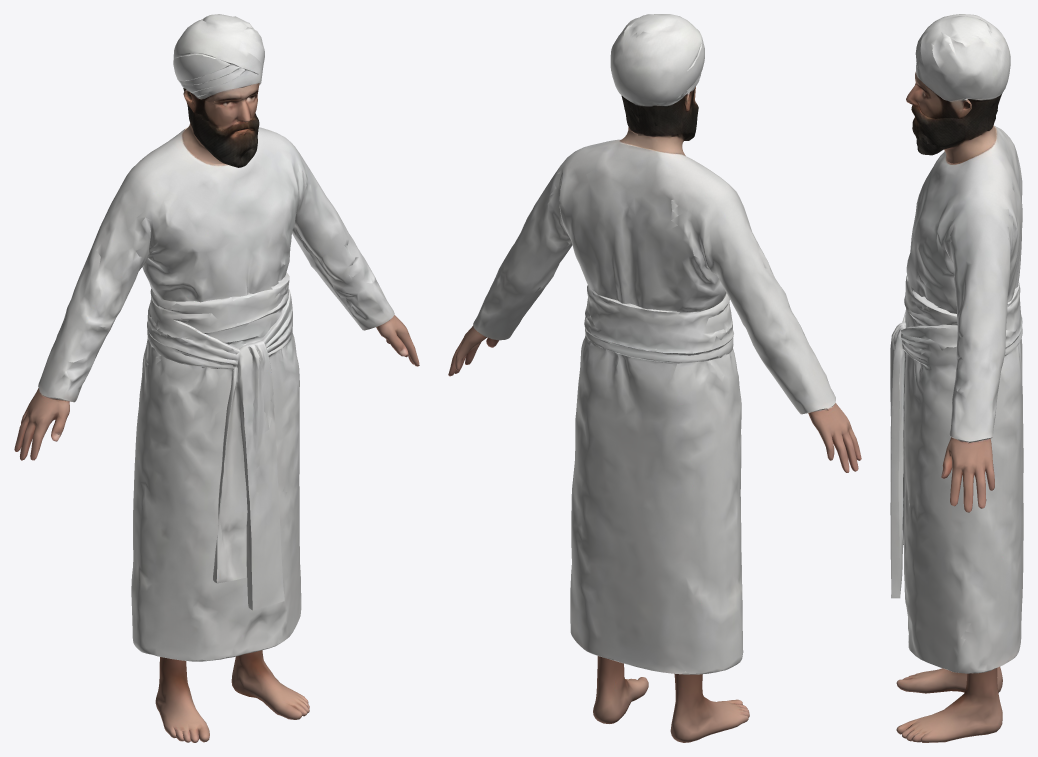
File: cohen_gadol_lavan_1.glb
The picture shows the model from 3 angles, left to right: view 1: azimuth 30°, elevation 25°; view 2: azimuth 150°, elevation 25°; view 3: azimuth 270°, elevation 25°; orthographic projection.
Parts seen in each view (by area): view 1: Mesh; view 2: Mesh; view 3: Mesh.
Part boxes in pixels (box(x1,y1,x2,y2)): Mesh: box(14, 14, 419, 742); Mesh: box(448, 14, 861, 742); Mesh: box(890, 14, 1023, 742).
Bounding box in the file's own units: 1.14 × 1.9 × 0.3305.
Materials: 1 (1 with a texture image).
